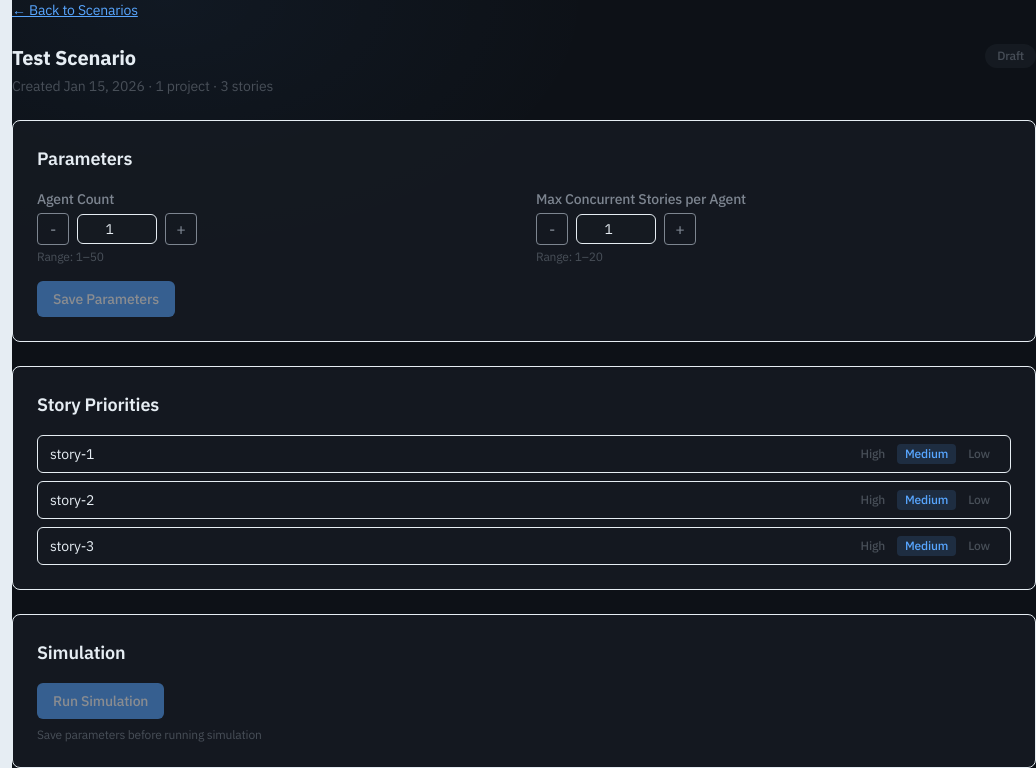
ScenarioDetail › clicking priority button shows diff summary change
The image size is (1036, 768).
Click the button "High" in the row of "story-1" at {"x": 873, "y": 454}, box [852,444,893,464]
(page scrolled)
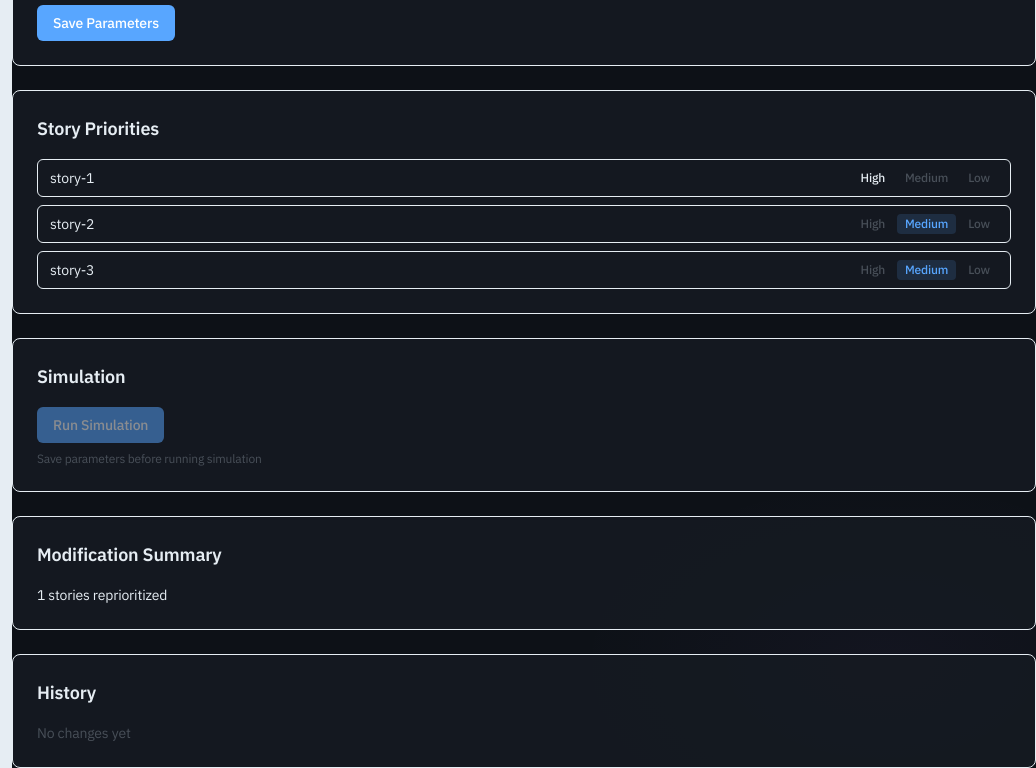
Result: the text "1 stories reprioritized" is shown at [37,586,167,604]
